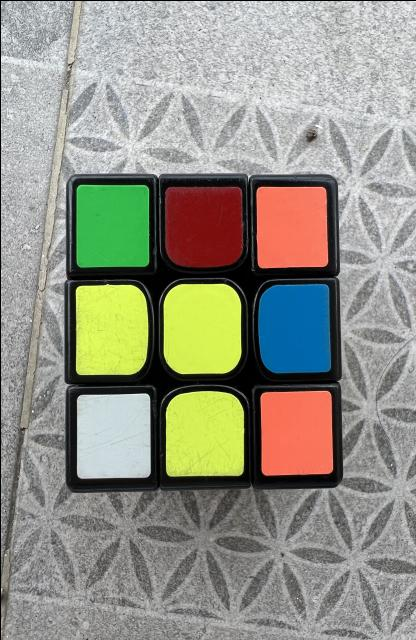Blue: (258, 284, 330, 372)
Green: (76, 184, 148, 266)
Orange: (259, 390, 333, 475), (256, 186, 327, 268)
Red: (165, 186, 243, 266)
White: (76, 392, 150, 478)
Yellow: (162, 282, 240, 374), (165, 390, 244, 476), (75, 284, 147, 374)
